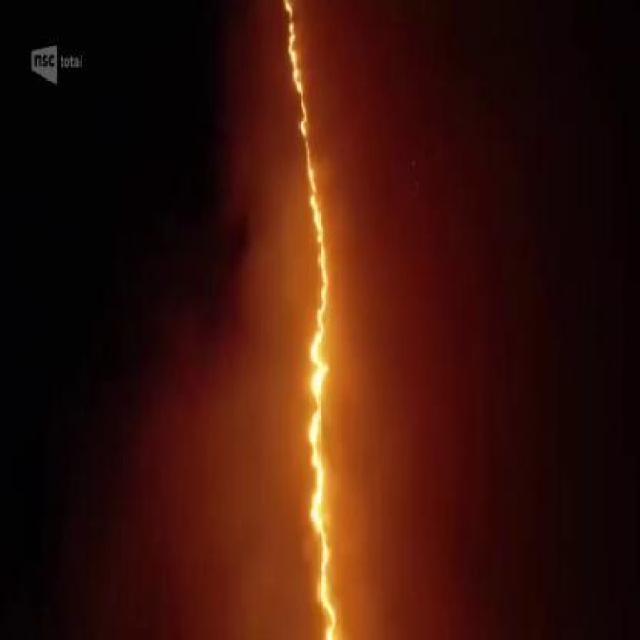Fire: (306, 324, 340, 636), (314, 232, 334, 300), (308, 172, 326, 245), (314, 278, 328, 324), (286, 38, 302, 70)
